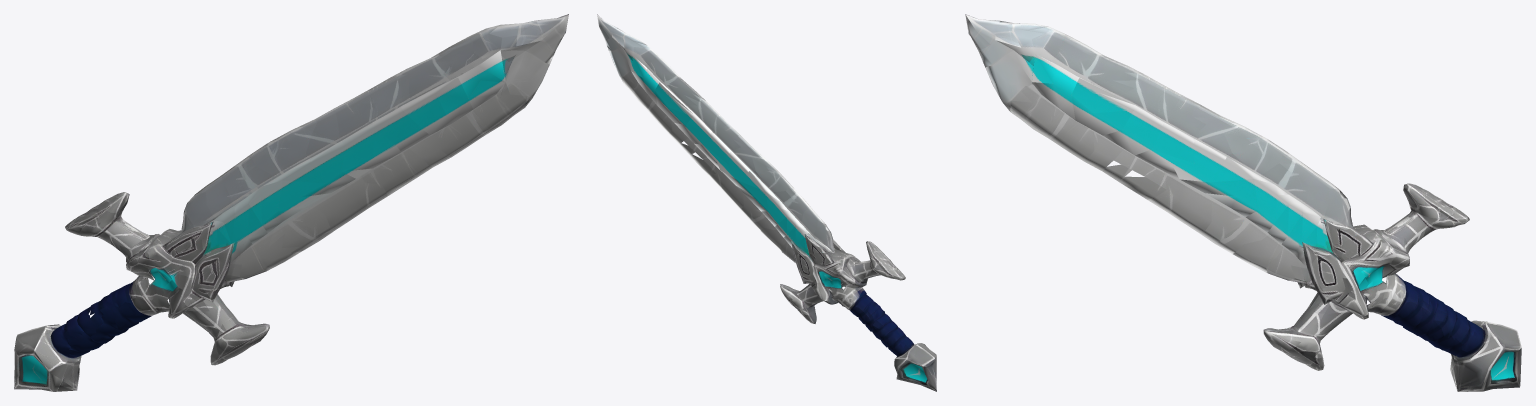
The model's file is Create-one-complete-stylized-sword-named-Citadel-F.glb.
3 views of the same model, side by side, from view 1: azimuth 30°, elevation 25°; view 2: azimuth 210°, elevation 25°; view 3: azimuth 270°, elevation 25° (orthographic). The views are drawn at different scales.
Parts seen in each view (by area): view 1: Mesh::generatedModels/7KJSXpsxYAVW9OwD6LtV.gltf; view 2: Mesh::generatedModels/7KJSXpsxYAVW9OwD6LtV.gltf; view 3: Mesh::generatedModels/7KJSXpsxYAVW9OwD6LtV.gltf.
Part boxes in pixels (box(x1,y1,x2,y2)): Mesh::generatedModels/7KJSXpsxYAVW9OwD6LtV.gltf: box(14, 14, 568, 391); Mesh::generatedModels/7KJSXpsxYAVW9OwD6LtV.gltf: box(597, 14, 936, 391); Mesh::generatedModels/7KJSXpsxYAVW9OwD6LtV.gltf: box(965, 14, 1521, 391).
Size of the model in its own units: 0.5613 by 0.877 by 0.8438.
Materials: 1 (1 with a texture image).
